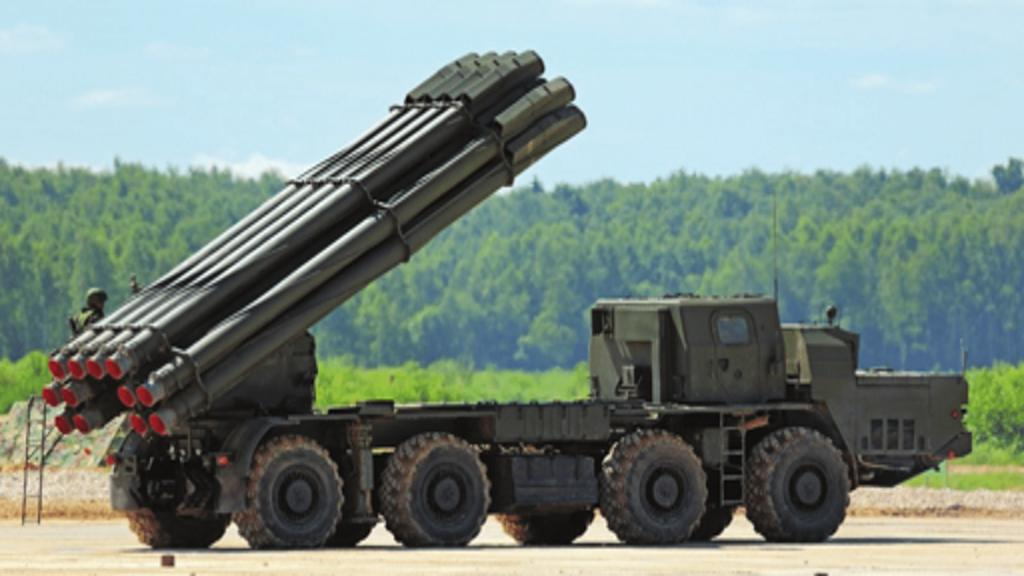MLRS: (44, 43, 976, 538)
